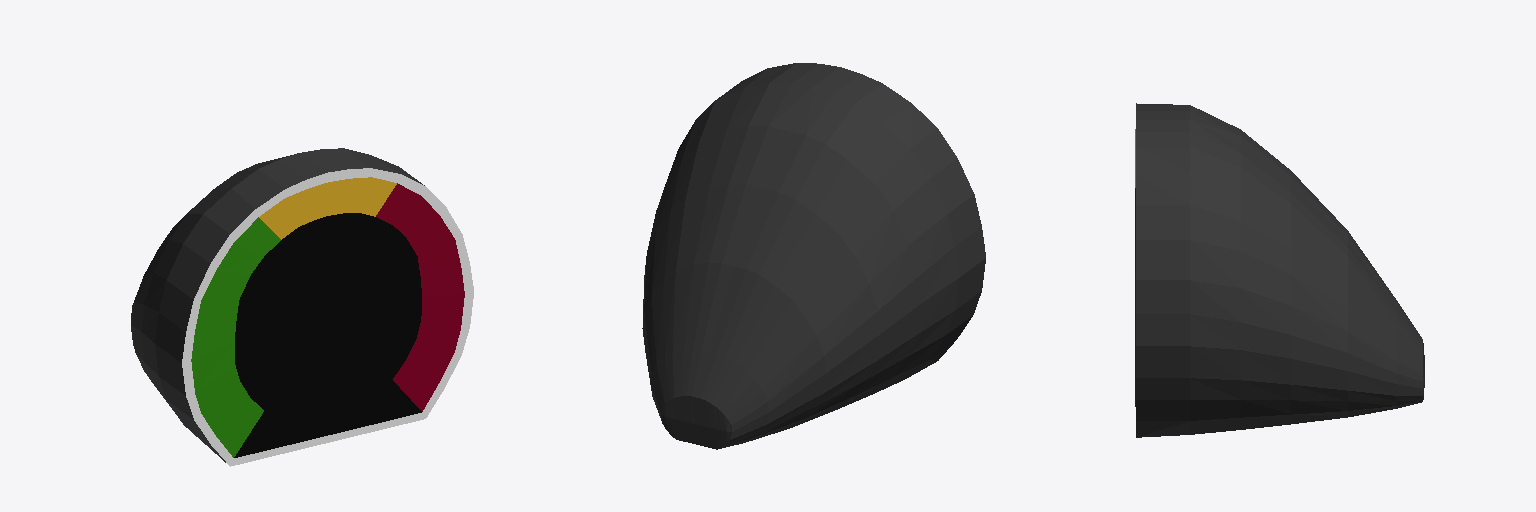
Rendered from BaseVelCaras.obj.
3 renders of one model, left to right at view 1: azimuth 30°, elevation 25°; view 2: azimuth 150°, elevation 25°; view 3: azimuth 270°, elevation 25°, orthographic.
Visible parts, largest first — view 1: BaseVel2:BaseVel1; view 2: BaseVel2:BaseVel1; view 3: BaseVel2:BaseVel1.
Part boxes in pixels (left/top/right/bottom): BaseVel2:BaseVel1: left=131, top=148, right=473, bottom=466; BaseVel2:BaseVel1: left=642, top=63, right=985, bottom=449; BaseVel2:BaseVel1: left=1135, top=103, right=1424, bottom=437.
Bounding box in the file's own units: 6.75 × 6.01 × 5.79.